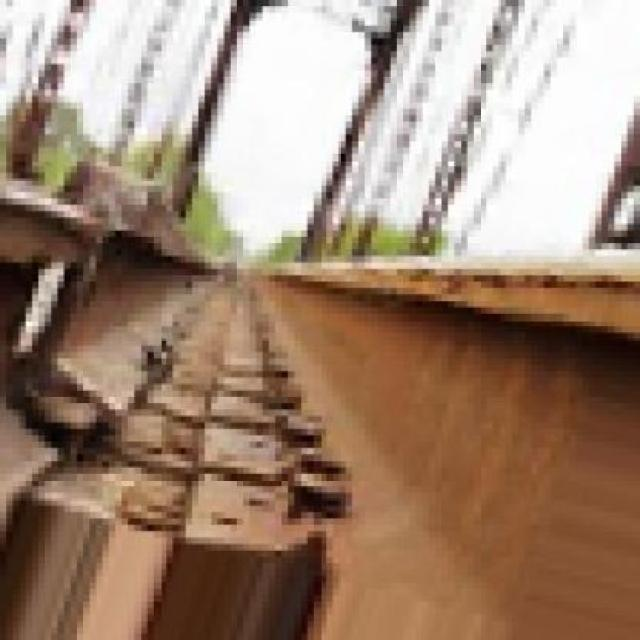defective: (14, 56, 217, 434)
